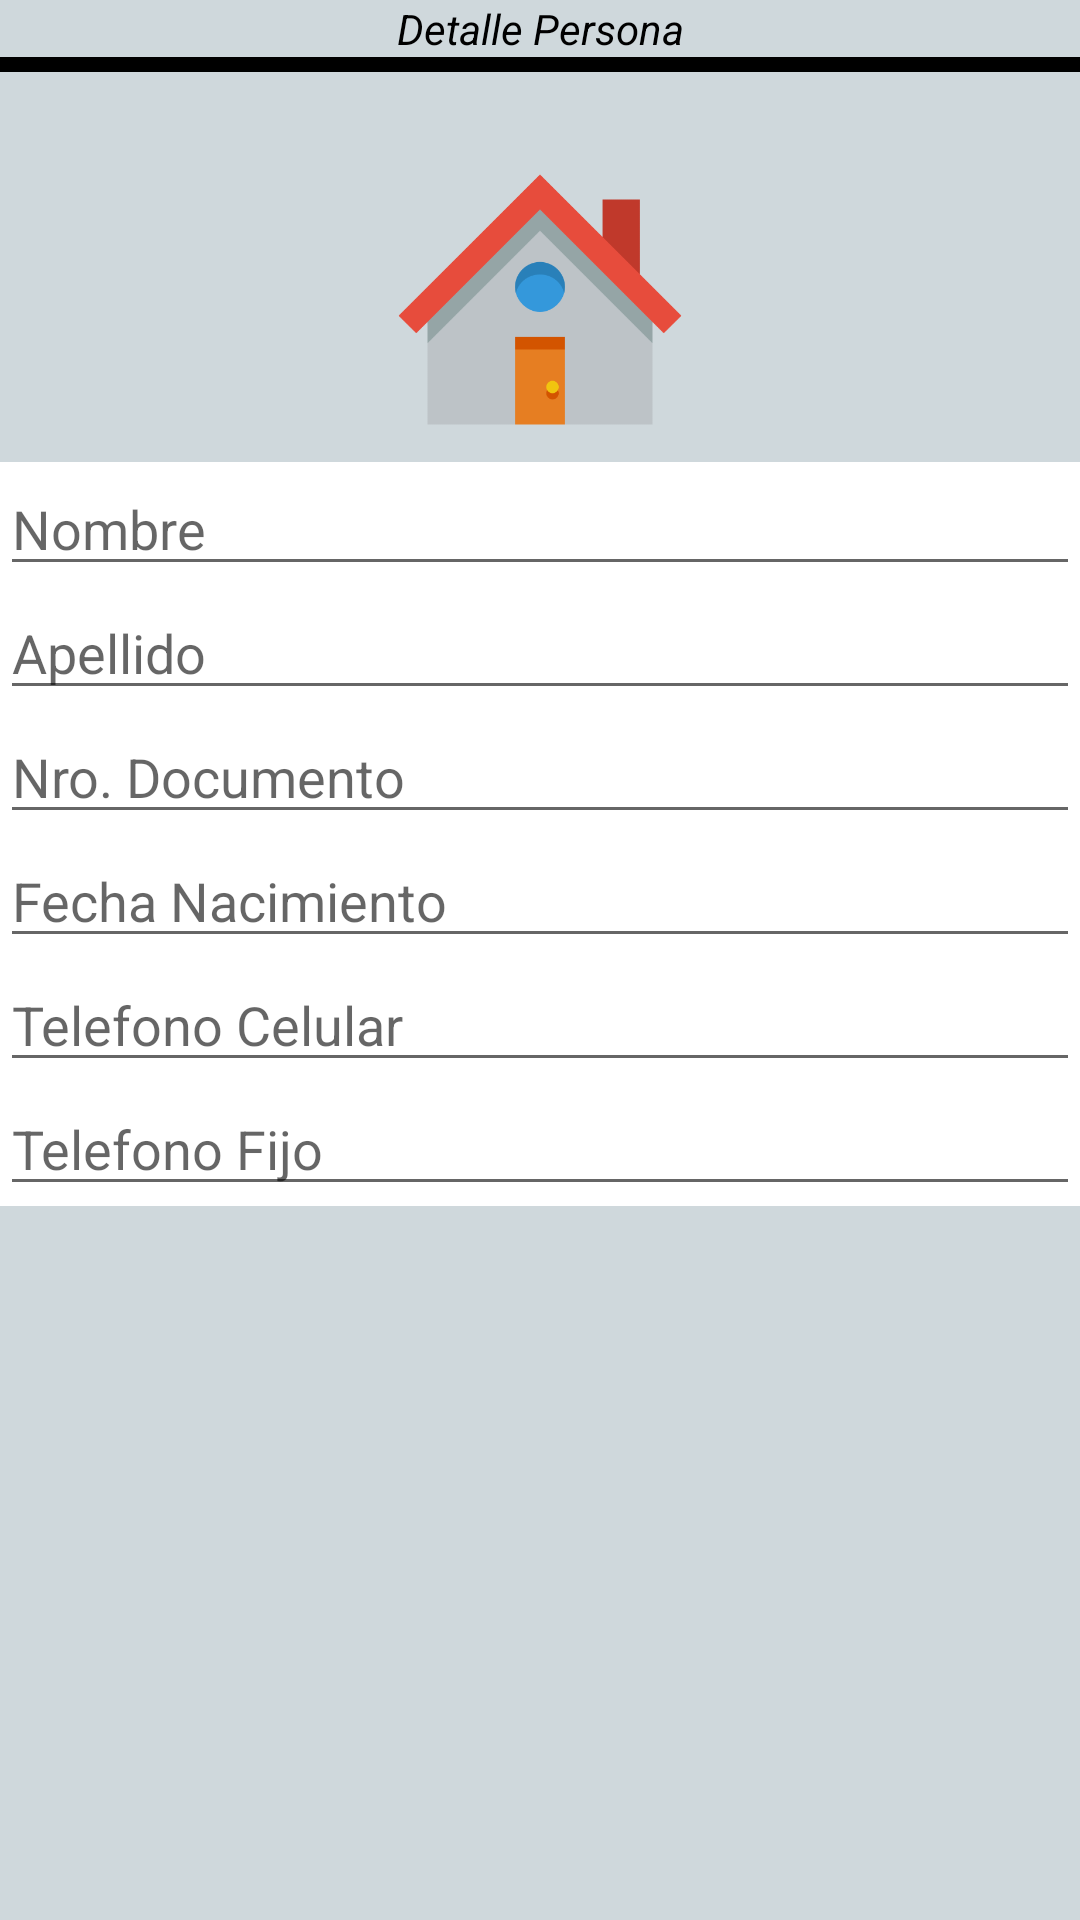

Icon bounding boxes for this 1080×1920 phone screenshot, format {"left": x1, "top": y1, "right": x2, "bottom": y2}:
casa: {"left": 399, "top": 175, "right": 681, "bottom": 425}
